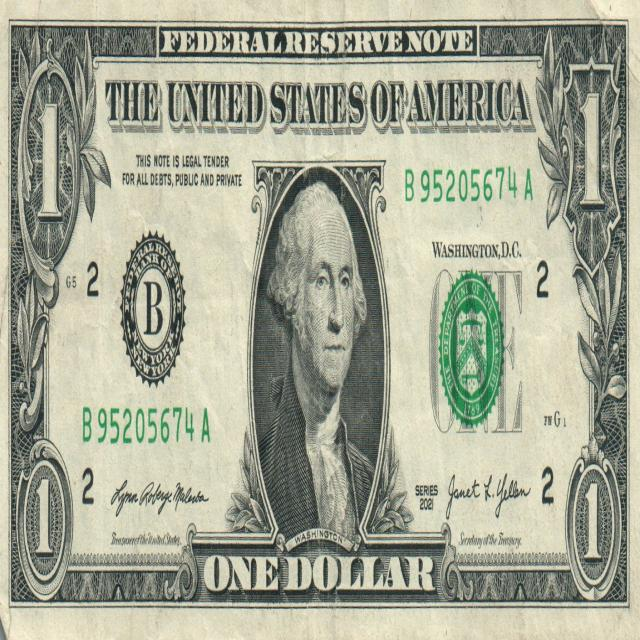SerialNumber: (83, 407, 210, 443), (405, 166, 517, 202)
